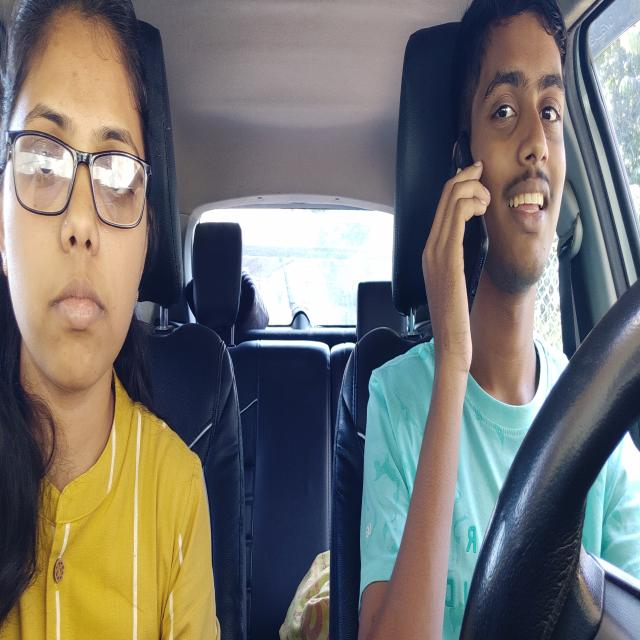mobile: (440, 130, 490, 338)
person: (1, 11, 160, 401), (461, 0, 570, 330)
